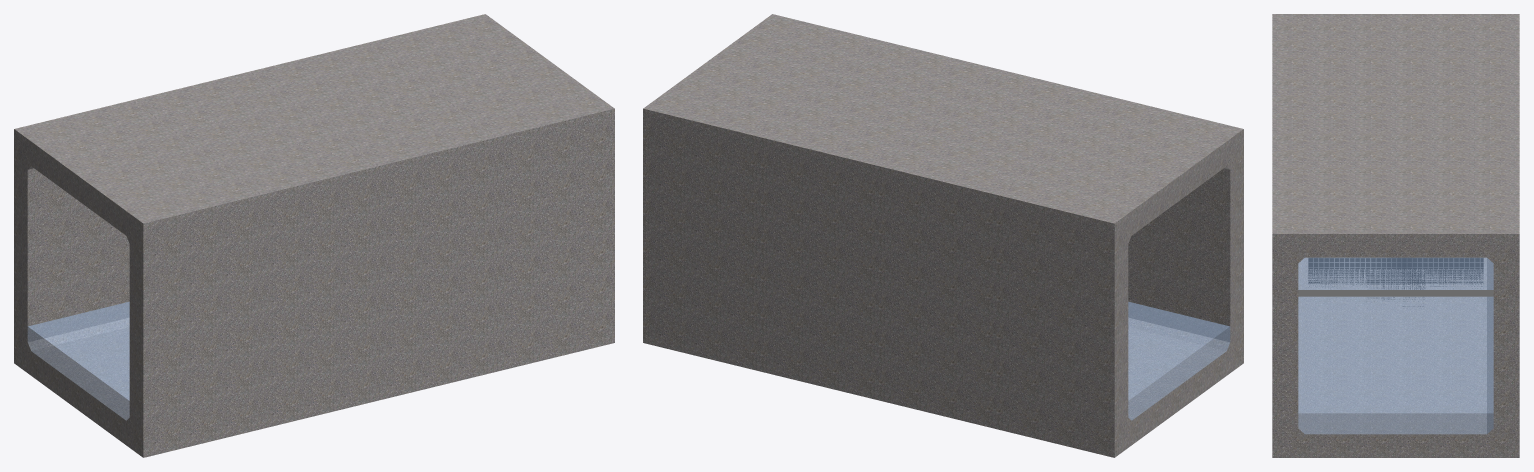
Rendered from gabions.glb.
3 views of the same model, side by side, from view 1: azimuth 30°, elevation 25°; view 2: azimuth 150°, elevation 25°; view 3: azimuth 270°, elevation 25° (orthographic). The views are drawn at different scales.
Parts seen in each view (by area): view 1: Calaix_prefabricat5___Calaix_prefabricat_1115878__3D_1, Calaix_prefabricat2___Calaix_prefabricat_1114143__3D_1, Calaix_prefabricat3___Calaix_prefabricat_1114172__3D_1, Calaix_prefabricat4___Calaix_prefabricat_1114201__3D_1, Aigua___Aigua_1115949__3D_1; view 2: Calaix_prefabricat5___Calaix_prefabricat_1115878__3D_1, Calaix_prefabricat2___Calaix_prefabricat_1114143__3D_1, Calaix_prefabricat3___Calaix_prefabricat_1114172__3D_1, Calaix_prefabricat4___Calaix_prefabricat_1114201__3D_1, Aigua___Aigua_1115949__3D_1; view 3: Calaix_prefabricat2___Calaix_prefabricat_1114143__3D_1, Aigua___Aigua_1115949__3D_1, Calaix_prefabricat3___Calaix_prefabricat_1114172__3D_1, Calaix_prefabricat4___Calaix_prefabricat_1114201__3D_1, Calaix_prefabricat5___Calaix_prefabricat_1115878__3D_1, Gabi____Gabi__1114762__3D_1.
Part boxes in pixels (x1,y1,x2,y2): Calaix_prefabricat5___Calaix_prefabricat_1115878__3D_1: (14,100,261,457); Calaix_prefabricat2___Calaix_prefabricat_1114143__3D_1: (368,14,614,371); Calaix_prefabricat3___Calaix_prefabricat_1114172__3D_1: (250,43,496,400); Calaix_prefabricat4___Calaix_prefabricat_1114201__3D_1: (132,71,378,428); Aigua___Aigua_1115949__3D_1: (27,302,129,420); Calaix_prefabricat5___Calaix_prefabricat_1115878__3D_1: (996,100,1243,457); Calaix_prefabricat2___Calaix_prefabricat_1114143__3D_1: (643,14,889,371); Calaix_prefabricat3___Calaix_prefabricat_1114172__3D_1: (761,43,1007,400); Calaix_prefabricat4___Calaix_prefabricat_1114201__3D_1: (879,71,1125,428); Aigua___Aigua_1115949__3D_1: (1128,302,1230,420); Calaix_prefabricat2___Calaix_prefabricat_1114143__3D_1: (1272,179,1519,457); Aigua___Aigua_1115949__3D_1: (1298,257,1493,434); Calaix_prefabricat3___Calaix_prefabricat_1114172__3D_1: (1272,124,1519,379); Calaix_prefabricat4___Calaix_prefabricat_1114201__3D_1: (1272,69,1519,324); Calaix_prefabricat5___Calaix_prefabricat_1115878__3D_1: (1272,14,1519,269); Gabi____Gabi__1114762__3D_1: (1298,257,1493,306).
Size of the model in its own units: 4 by 1.9 by 1.9.
Materials: 7 (5 with a texture image).
